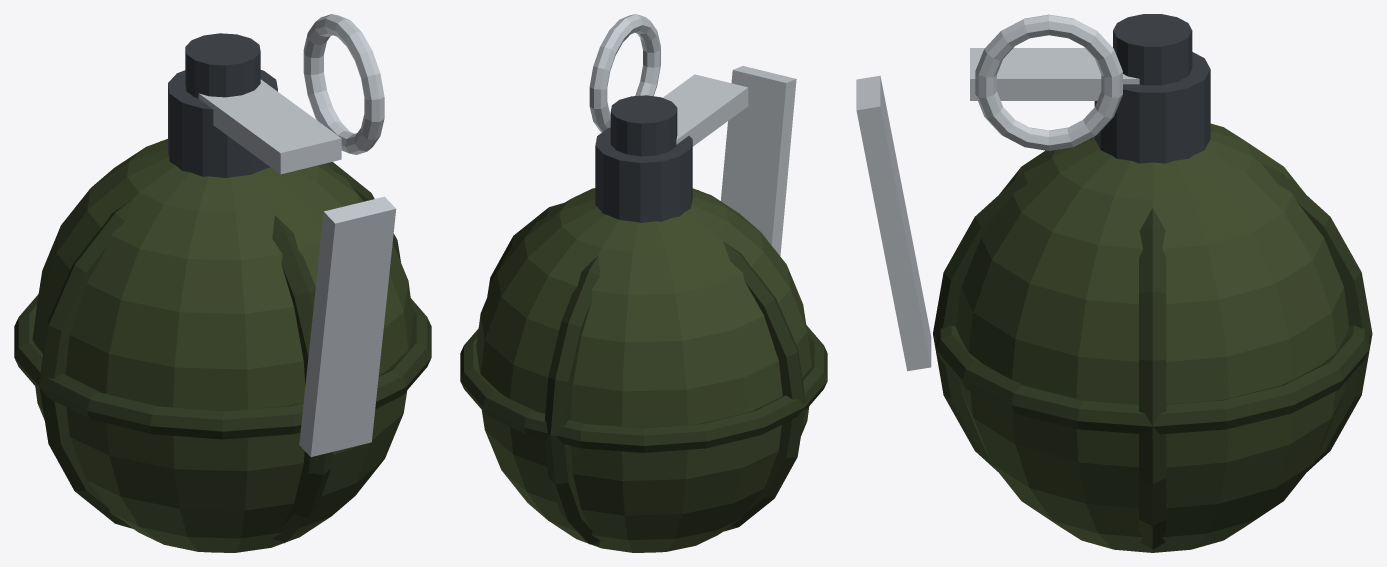
Rendered from hegrenade.glb.
3 renders of one model, left to right at view 1: azimuth 30°, elevation 25°; view 2: azimuth 150°, elevation 25°; view 3: azimuth 270°, elevation 25°, orthographic. The views are drawn at different scales.
Parts seen in each view (by area): view 1: HEGrenade; view 2: HEGrenade; view 3: HEGrenade.
Boxes of the visible parts, x1,y1,x2,y2 form: HEGrenade: [14, 14, 431, 552]; HEGrenade: [460, 14, 827, 552]; HEGrenade: [856, 14, 1372, 552].
Size of the model in its own units: 0.0722 by 0.1013 by 0.0847.
